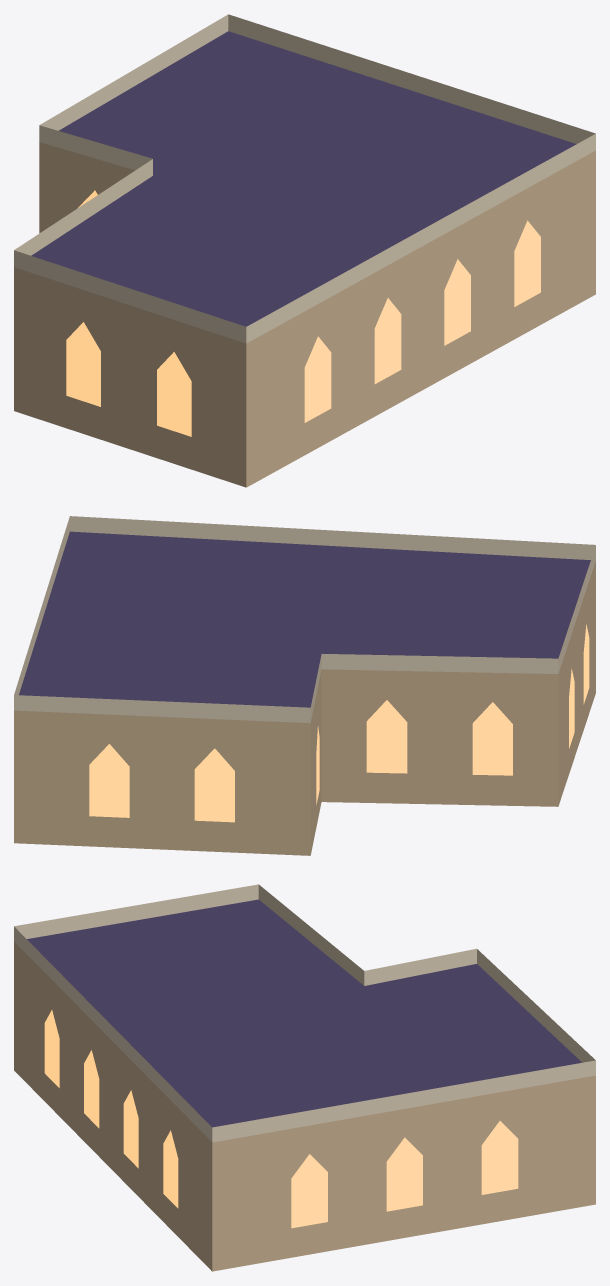
The model's file is b-005-young-house.glb.
The picture shows the model from 3 angles, top to bottom: view 1: azimuth 30°, elevation 25°; view 2: azimuth 150°, elevation 25°; view 3: azimuth 270°, elevation 25°; orthographic projection. The views are drawn at different scales.
Visible parts, largest first — view 1: campus/b-005-young-house-0; view 2: campus/b-005-young-house-0; view 3: campus/b-005-young-house-0.
Boxes of the visible parts, x1,y1,x2,y2 form: campus/b-005-young-house-0: (14,14,595,487); campus/b-005-young-house-0: (14,516,595,855); campus/b-005-young-house-0: (14,884,595,1271).
Size of the model in its own units: 18.99 by 5.25 by 19.21.
